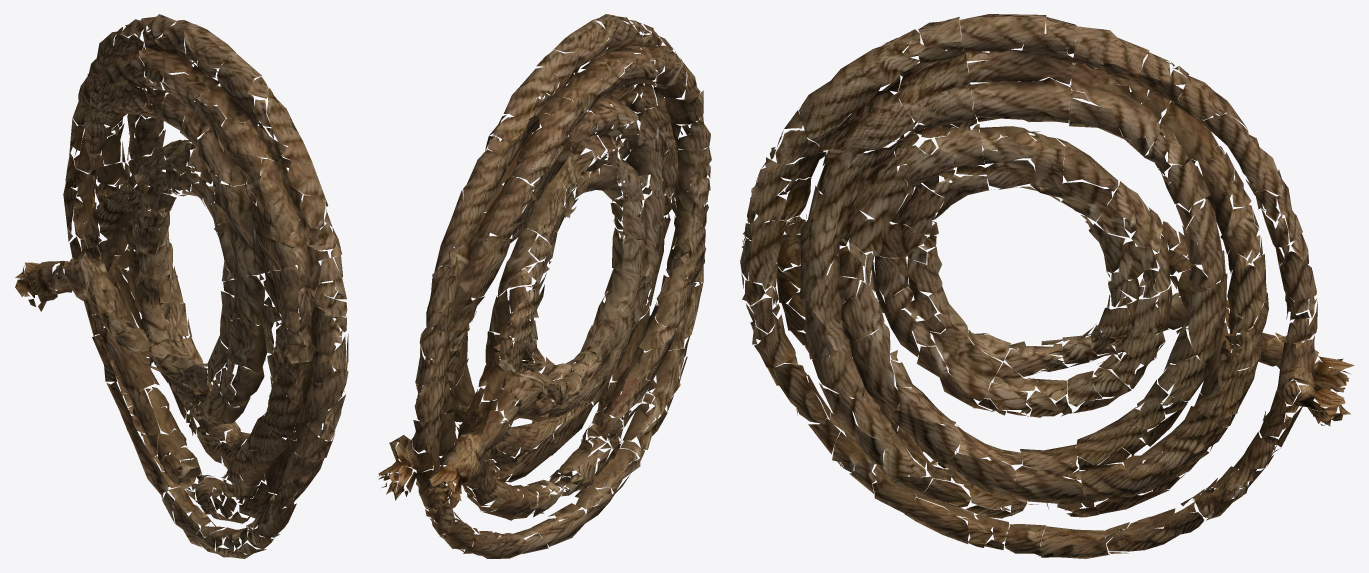
Rendered from rope.glb.
3 views of the same model, side by side, from view 1: azimuth 30°, elevation 25°; view 2: azimuth 150°, elevation 25°; view 3: azimuth 270°, elevation 25° (orthographic). The views are drawn at different scales.
Parts seen in each view (by area): view 1: tripo_node_9908b21b-8243-4f94-8c56-525e62405d85; view 2: tripo_node_9908b21b-8243-4f94-8c56-525e62405d85; view 3: tripo_node_9908b21b-8243-4f94-8c56-525e62405d85.
Part boxes in pixels (left/top/right/bottom): tripo_node_9908b21b-8243-4f94-8c56-525e62405d85: left=15, top=14, right=348, bottom=558; tripo_node_9908b21b-8243-4f94-8c56-525e62405d85: left=378, top=14, right=711, bottom=558; tripo_node_9908b21b-8243-4f94-8c56-525e62405d85: left=740, top=14, right=1354, bottom=558.
Size of the model in its own units: 0.2115 by 0.9636 by 0.9973.
Materials: 1 (1 with a texture image).
